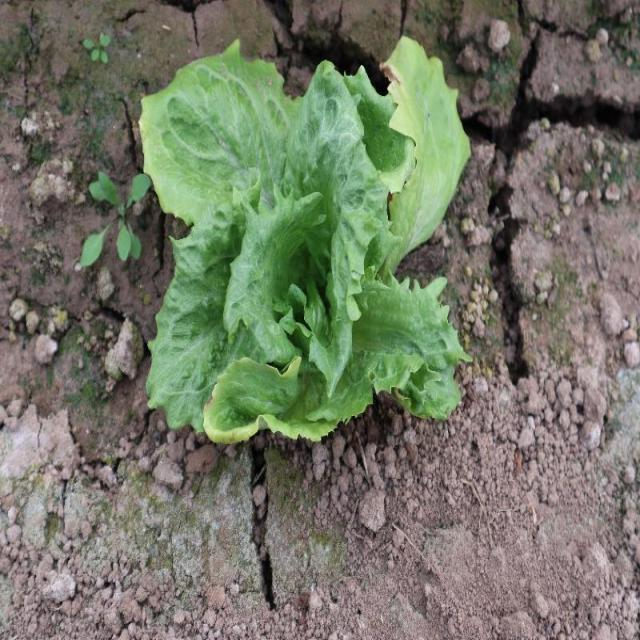crop: (136, 32, 469, 445)
